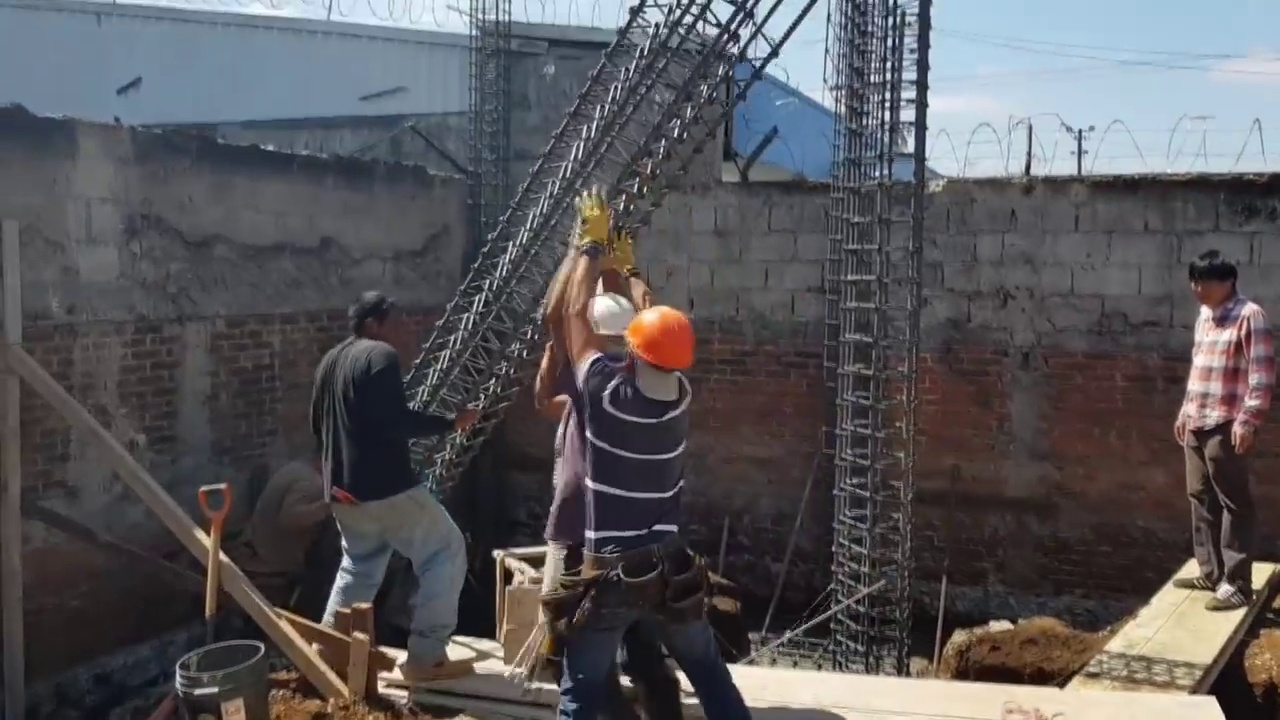helmet: (628, 314, 694, 382), (587, 287, 633, 341)
helmet-off: (343, 294, 427, 355), (1194, 254, 1246, 314)
helmet-on: (625, 304, 698, 397), (586, 284, 635, 367)
person: (537, 224, 729, 678), (307, 282, 467, 682), (1173, 259, 1268, 626), (533, 274, 638, 590), (226, 441, 321, 608)
